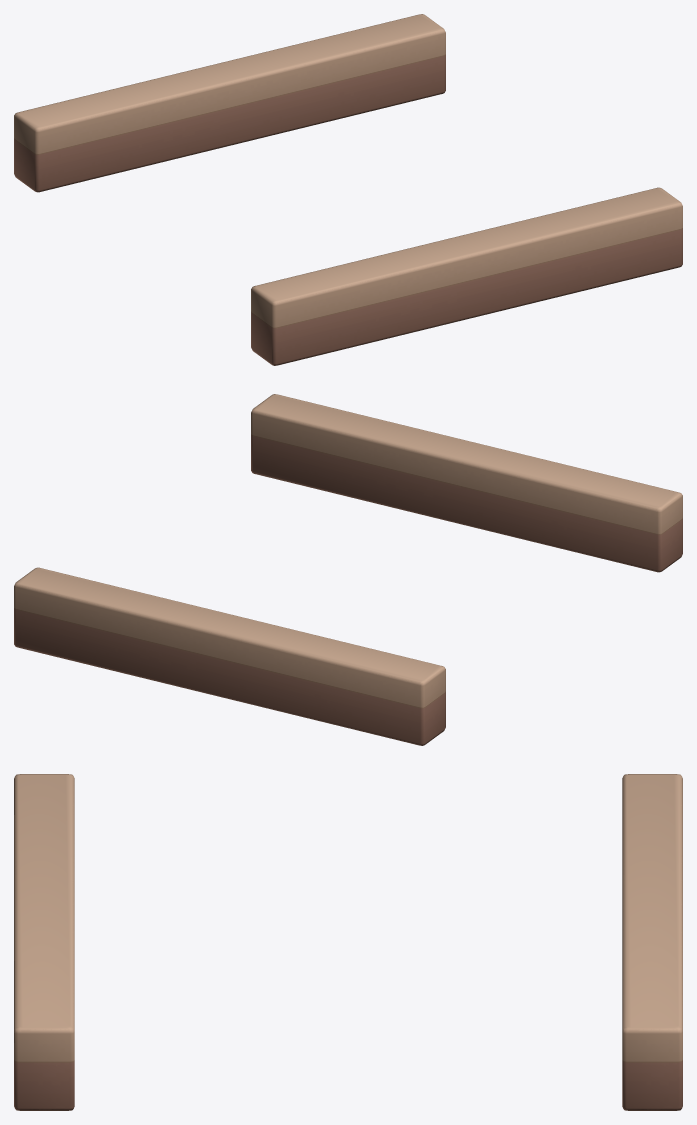
The model's file is Props.fbx.
3 renders of one model, top to bottom at view 1: azimuth 30°, elevation 25°; view 2: azimuth 150°, elevation 25°; view 3: azimuth 270°, elevation 25°, orthographic. The views are drawn at different scales.
Parts seen in each view (by area): view 1: Box20-3_2, Box20-3_2 (1); view 2: Box20-3_2, Box20-3_2 (1); view 3: Box20-3_2, Box20-3_2 (1).
Boxes of the visible parts, x1,y1,x2,y2 form: Box20-3_2: (251,187,682,365); Box20-3_2 (1): (14,14,445,192); Box20-3_2: (251,394,682,572); Box20-3_2 (1): (14,567,445,745); Box20-3_2: (14,774,74,1110); Box20-3_2 (1): (622,774,682,1110).
Bounding box in the file's own units: 10 × 1.5 × 11.
